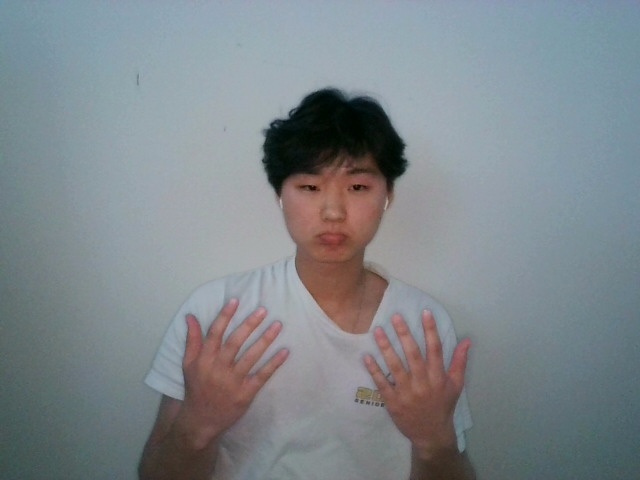sad: (168, 285, 522, 451)
